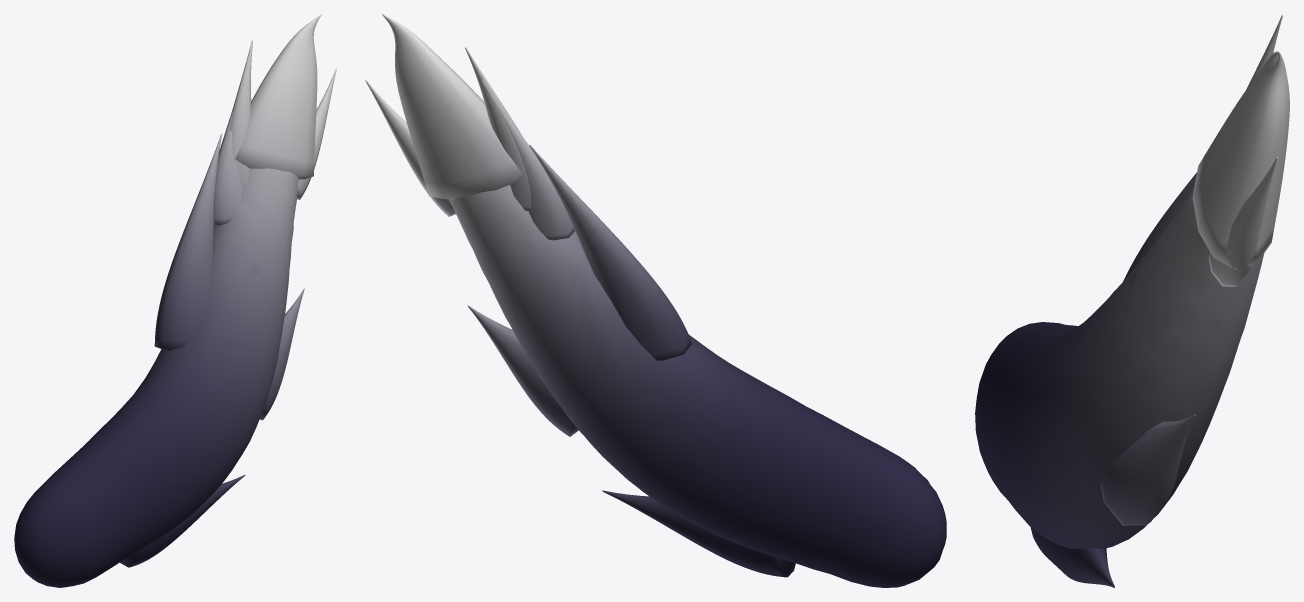
Rendered from monarca_chama_lado_d.fbx.
3 renders of one model, left to right at view 1: azimuth 30°, elevation 25°; view 2: azimuth 150°, elevation 25°; view 3: azimuth 270°, elevation 25°, orthographic. The views are drawn at different scales.
Visible parts, largest first — view 1: monarca_chama_lado_d; view 2: monarca_chama_lado_d; view 3: monarca_chama_lado_d.
Boxes of the visible parts, <box> form: monarca_chama_lado_d: <box>14,14,336,587</box>; monarca_chama_lado_d: <box>365,14,946,587</box>; monarca_chama_lado_d: <box>975,14,1289,587</box>.
Bounding box in the file's own units: 2.56 × 2.73 × 1.1.
